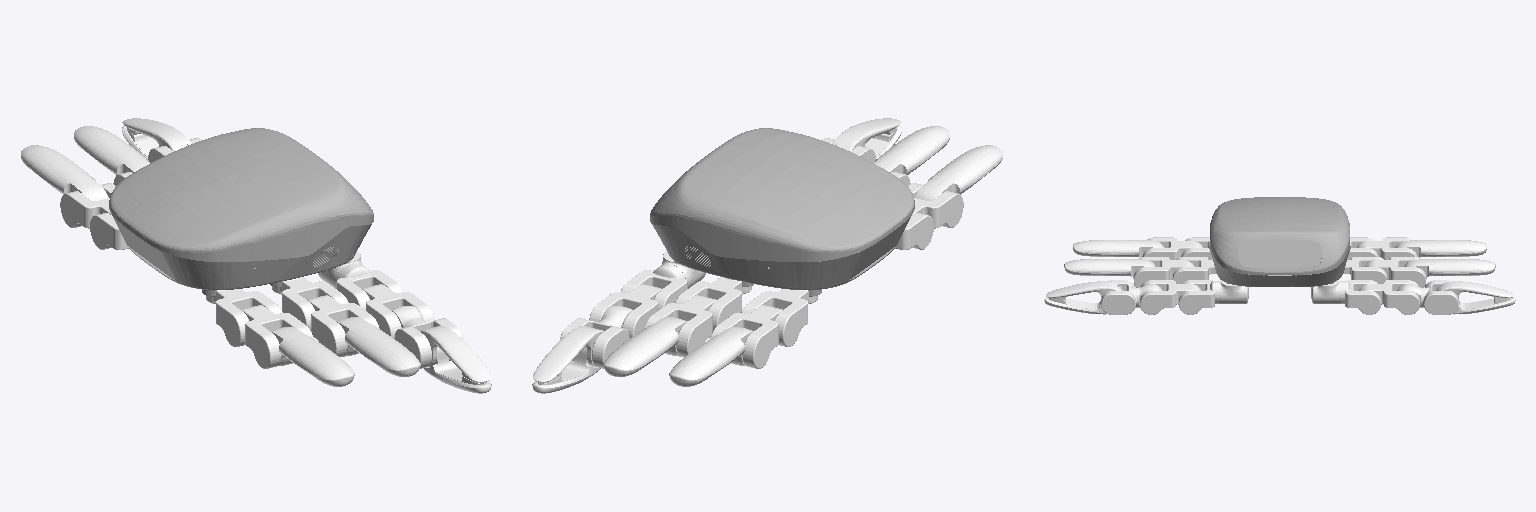
--- Facts derived from the render (not from the file) ---
The picture shows the robot from 3 angles, left to right: view 1: azimuth 30°, elevation 25°; view 2: azimuth 150°, elevation 25°; view 3: azimuth 270°, elevation 25°; orthographic projection.
Robot: robot — 23 links, 22 joints (22 revolute); root link base_link; default pose: every joint at zero.
Visible links, largest first — view 1: base_link, right_front_J3_link, right_back_J2_link, right_middle_J2_link, left_back_J2_link, right_back_J1_link, left_middle_J2_link, right_middle_J1_link, right_back_J0_link, right_front_J2_link, right_middle_J0_link, right_front_J1_link (+5 smaller); view 2: base_link, left_front_J3_link, left_middle_J2_link, left_back_J2_link, right_back_J2_link, left_back_J1_link, right_middle_J2_link, left_middle_J1_link, left_back_J0_link, left_front_J2_link, left_middle_J0_link, left_front_J1_link (+5 smaller); view 3: base_link, right_front_J3_link, left_front_J3_link, left_middle_J2_link, right_middle_J2_link, left_back_J2_link, right_back_J2_link, left_front_J2_link, right_front_J2_link, left_front_J1_link, right_front_J1_link, right_middle_J1_link (+9 smaller).
Link boxes in pixels (x1,y1,x2,y2): base_link: [109, 128, 373, 296]; right_front_J3_link: [391, 306, 490, 383]; right_back_J2_link: [270, 327, 354, 386]; right_middle_J2_link: [336, 317, 420, 376]; left_back_J2_link: [21, 145, 108, 200]; right_back_J1_link: [241, 305, 313, 368]; left_middle_J2_link: [74, 126, 149, 174]; right_middle_J1_link: [307, 295, 379, 356]; right_back_J0_link: [206, 289, 282, 346]; right_front_J2_link: [362, 284, 434, 337]; right_middle_J0_link: [272, 277, 348, 330]; right_front_J1_link: [336, 264, 402, 310]; base_link: [650, 128, 914, 296]; left_front_J3_link: [533, 306, 632, 383]; left_middle_J2_link: [603, 317, 687, 376]; left_back_J2_link: [669, 327, 753, 386]; right_back_J2_link: [915, 145, 1002, 200]; left_back_J1_link: [710, 305, 782, 368]; right_middle_J2_link: [874, 126, 949, 174]; left_middle_J1_link: [644, 295, 716, 356]; left_back_J0_link: [741, 289, 817, 346]; left_front_J2_link: [589, 284, 661, 337]; left_middle_J0_link: [675, 277, 751, 330]; left_front_J1_link: [621, 264, 687, 310]; base_link: [1209, 197, 1350, 286]; right_front_J3_link: [1046, 280, 1162, 314]; left_front_J3_link: [1397, 280, 1513, 314]; left_middle_J2_link: [1404, 259, 1495, 278]; right_middle_J2_link: [1064, 259, 1155, 278]; left_back_J2_link: [1395, 240, 1486, 257]; right_back_J2_link: [1073, 240, 1164, 257]; left_front_J2_link: [1359, 280, 1419, 314]; right_front_J2_link: [1140, 280, 1200, 314]; left_front_J1_link: [1341, 280, 1380, 314]; right_front_J1_link: [1179, 280, 1218, 314]; right_middle_J1_link: [1134, 257, 1194, 287].
Bounding box of the posed robot: 0.2057 × 0.6061 × 0.1161 m (x, y, z).
23 mesh visuals loaded from 23 distinct referenced files (23 binary STL).

URDF robot description (robot):
<?xml version="1.0" encoding="utf-8"?>
<!-- This URDF was automatically created by SolidWorks to URDF Exporter! Originally created by Stephen Brawner ([email redacted]) 
     Commit Version: 1.6.0-4-g7f85cfe  Build Version: 1.6.7995.38578
     For more information, please see http://wiki.ros.org/sw_urdf_exporter -->
<robot
  name="robot">
  <link
    name="base_link">
    <inertial>
      <origin
        xyz="0.00682568344531722 -4.76619026597145E-05 0.0172984181656626"
        rpy="0 0 0" />
      <mass
        value="0.389730863787271" />
      <inertia
        ixx="0.000205914056241163"
        ixy="-4.07569751900871E-08"
        ixz="4.76280901177032E-06"
        iyy="0.000351706392617631"
        iyz="-5.28394829553752E-09"
        izz="0.000509696724107986" />
    </inertial>
    <visual>
      <origin
        xyz="0 0 0"
        rpy="0 0 0" />
      <geometry>
        <mesh
          filename="package://robot/meshes/base_link.STL" />
      </geometry>
      <material
        name="">
        <color
          rgba="0.752941176470588 0.752941176470588 0.752941176470588 1" />
      </material>
    </visual>
    <collision>
      <origin
        xyz="0 0 0"
        rpy="0 0 0" />
      <geometry>
        <mesh
          filename="package://robot/meshes/base_link.STL" />
      </geometry>
    </collision>
  </link>
  <link
    name="left_front_J0_link">
    <inertial>
      <origin
        xyz="6.8128369640208E-08 -0.00149336101619772 -0.0151964685783306"
        rpy="0 0 0" />
      <mass
        value="0.0287169150136413" />
      <inertia
        ixx="4.24338203025952E-06"
        ixy="-8.77552412750308E-13"
        ixz="4.97146756928194E-11"
        iyy="3.58823672898843E-06"
        iyz="-2.52684133106505E-11"
        izz="4.09758727579147E-06" />
    </inertial>
    <visual>
      <origin
        xyz="0 0 0"
        rpy="0 0 0" />
      <geometry>
        <mesh
          filename="package://robot/meshes/left_front_J0_link.STL" />
      </geometry>
      <material
        name="">
        <color
          rgba="1 1 1 1" />
      </material>
    </visual>
    <collision>
      <origin
        xyz="0 0 0"
        rpy="0 0 0" />
      <geometry>
        <mesh
          filename="package://robot/meshes/left_front_J0_link.STL" />
      </geometry>
    </collision>
  </link>
  <joint
    name="left_front_J0"
    type="revolute">
    <origin
      xyz="0.064999 0.061141 0"
      rpy="0 0 0" />
    <parent
      link="base_link" />
    <child
      link="left_front_J0_link" />
    <axis
      xyz="0 0 1" />
    <limit
      lower="0"
      upper="0"
      effort="0"
      velocity="0" />
  </joint>
  <link
    name="left_front_J1_link">
    <inertial>
      <origin
        xyz="-4.01272283456766E-09 0.0239300112962954 -0.00386264062827269"
        rpy="0 0 0" />
      <mass
        value="0.0336203023629006" />
      <inertia
        ixx="9.27782739989519E-06"
        ixy="-2.4855166240055E-12"
        ixz="1.41172196889378E-11"
        iyy="9.12953535478703E-06"
        iyz="1.32705697776935E-06"
        izz="1.43916756250336E-05" />
    </inertial>
    <visual>
      <origin
        xyz="0 0 0"
        rpy="0 0 0" />
      <geometry>
        <mesh
          filename="package://robot/meshes/left_front_J1_link.STL" />
      </geometry>
      <material
        name="">
        <color
          rgba="1 1 1 1" />
      </material>
    </visual>
    <collision>
      <origin
        xyz="0 0 0"
        rpy="0 0 0" />
      <geometry>
        <mesh
          filename="package://robot/meshes/left_front_J1_link.STL" />
      </geometry>
    </collision>
  </link>
  <joint
    name="left_front_J1"
    type="revolute">
    <origin
      xyz="0 0.0168499999804508 -0.0163716952667256"
      rpy="0 0 0" />
    <parent
      link="left_front_J0_link" />
    <child
      link="left_front_J1_link" />
    <axis
      xyz="0 1 0" />
    <limit
      lower="0"
      upper="0"
      effort="0"
      velocity="0" />
  </joint>
  <link
    name="left_front_J2_link">
    <inertial>
      <origin
        xyz="-3.61725622233244E-08 0.025554890811241 0.00186994487865046"
        rpy="0 0 0" />
      <mass
        value="0.046534375517894" />
      <inertia
        ixx="2.49766967295052E-05"
        ixy="-7.26987022232083E-11"
        ixz="-3.80588013372108E-11"
        iyy="1.01604029346777E-05"
        iyz="-1.13414332011804E-08"
        izz="2.97992121199057E-05" />
    </inertial>
    <visual>
      <origin
        xyz="0 0 0"
        rpy="0 0 0" />
      <geometry>
        <mesh
          filename="package://robot/meshes/left_front_J2_link.STL" />
      </geometry>
      <material
        name="">
        <color
          rgba="1 1 1 1" />
      </material>
    </visual>
    <collision>
      <origin
        xyz="0 0 0"
        rpy="0 0 0" />
      <geometry>
        <mesh
          filename="package://robot/meshes/left_front_J2_link.STL" />
      </geometry>
    </collision>
  </link>
  <joint
    name="left_front_J2"
    type="revolute">
    <origin
      xyz="0 0.037236 -0.0070643"
      rpy="0 0 0" />
    <parent
      link="left_front_J1_link" />
    <child
      link="left_front_J2_link" />
    <axis
      xyz="1 0 0" />
    <limit
      lower="0"
      upper="0"
      effort="0"
      velocity="0" />
  </joint>
  <link
    name="left_front_J3_link">
    <inertial>
      <origin
        xyz="6.15726642866354E-08 0.028356299377758 0.000110726458451976"
        rpy="0 0 0" />
      <mass
        value="0.0531446035117344" />
      <inertia
        ixx="2.66594411909133E-05"
        ixy="2.68867920903369E-11"
        ixz="-2.62205177518291E-11"
        iyy="1.14210874046915E-05"
        iyz="2.03728486542381E-08"
        izz="3.16346162209622E-05" />
    </inertial>
    <visual>
      <origin
        xyz="0 0 0"
        rpy="0 0 0" />
      <geometry>
        <mesh
          filename="package://robot/meshes/left_front_J3_link.STL" />
      </geometry>
      <material
        name="">
        <color
          rgba="1 1 1 1" />
      </material>
    </visual>
    <collision>
      <origin
        xyz="0 0 0"
        rpy="0 0 0" />
      <geometry>
        <mesh
          filename="package://robot/meshes/left_front_J3_link.STL" />
      </geometry>
    </collision>
  </link>
  <joint
    name="left_front_J3"
    type="revolute">
    <origin
      xyz="0 0.0500011330266 0"
      rpy="0 0 0" />
    <parent
      link="left_front_J2_link" />
    <child
      link="left_front_J3_link" />
    <axis
      xyz="1 0 0" />
    <limit
      lower="0"
      upper="0"
      effort="0"
      velocity="0" />
  </joint>
  <link
    name="left_front_J4_link">
    <inertial>
      <origin
        xyz="7.36143868551586E-06 0.0654362884758235 -0.0036500334336402"
        rpy="0 0 0" />
      <mass
        value="0.00164715375611125" />
      <inertia
        ixx="1.19326676189179E-07"
        ixy="-3.79896850283086E-12"
        ixz="-3.2792994571282E-11"
        iyy="3.83605379462162E-08"
        iyz="-2.0512888258599E-08"
        izz="1.43757951074741E-07" />
    </inertial>
    <visual>
      <origin
        xyz="0 0 0"
        rpy="0 0 0" />
      <geometry>
        <mesh
          filename="package://robot/meshes/left_front_J4_link.STL" />
      </geometry>
      <material
        name="">
        <color
          rgba="1 1 1 1" />
      </material>
    </visual>
    <collision>
      <origin
        xyz="0 0 0"
        rpy="0 0 0" />
      <geometry>
        <mesh
          filename="package://robot/meshes/left_front_J4_link.STL" />
      </geometry>
    </collision>
  </link>
  <joint
    name="left_front_J4"
    type="revolute">
    <origin
      xyz="0 0.0499999999998 0"
      rpy="0 0 0" />
    <parent
      link="left_front_J3_link" />
    <child
      link="left_front_J4_link" />
    <axis
      xyz="1 0 0" />
    <limit
      lower="0"
      upper="0"
      effort="0"
      velocity="0" />
  </joint>
  <link
    name="right_front_J0_link">
    <inertial>
      <origin
        xyz="-6.80448072748474E-08 0.00149335507437627 -0.0151964725432041"
        rpy="0 0 0" />
      <mass
        value="0.0287169045098633" />
      <inertia
        ixx="4.2433803569375E-06"
        ixy="-8.76662764832091E-13"
        ixz="-4.97452392356078E-11"
        iyy="3.5882350759547E-06"
        iyz="2.51576016738605E-11"
        izz="4.09758730728406E-06" />
    </inertial>
    <visual>
      <origin
        xyz="0 0 0"
        rpy="0 0 0" />
      <geometry>
        <mesh
          filename="package://robot/meshes/right_front_J0_link.STL" />
      </geometry>
      <material
        name="">
        <color
          rgba="1 1 1 1" />
      </material>
    </visual>
    <collision>
      <origin
        xyz="0 0 0"
        rpy="0 0 0" />
      <geometry>
        <mesh
          filename="package://robot/meshes/right_front_J0_link.STL" />
      </geometry>
    </collision>
  </link>
  <joint
    name="right_front_J0"
    type="revolute">
    <origin
      xyz="0.064999 -0.061141 0"
      rpy="0 0 0" />
    <parent
      link="base_link" />
    <child
      link="right_front_J0_link" />
    <axis
      xyz="0 0 1" />
    <limit
      lower="0"
      upper="0"
      effort="0"
      velocity="0" />
  </joint>
  <link
    name="right_front_J1_link">
    <inertial>
      <origin
        xyz="4.0127227929343E-09 -0.0239300112962954 -0.0038626406282727"
        rpy="0 0 0" />
      <mass
        value="0.0336203023629005" />
      <inertia
        ixx="9.27782739989518E-06"
        ixy="-2.48551662371447E-12"
        ixz="-1.4117219686432E-11"
        iyy="9.12953535478701E-06"
        iyz="-1.32705697776935E-06"
        izz="1.43916756250336E-05" />
    </inertial>
    <visual>
      <origin
        xyz="0 0 0"
        rpy="0 0 0" />
      <geometry>
        <mesh
          filename="package://robot/meshes/right_front_J1_link.STL" />
      </geometry>
      <material
        name="">
        <color
          rgba="1 1 1 1" />
      </material>
    </visual>
    <collision>
      <origin
        xyz="0 0 0"
        rpy="0 0 0" />
      <geometry>
        <mesh
          filename="package://robot/meshes/right_front_J1_link.STL" />
      </geometry>
    </collision>
  </link>
  <joint
    name="right_front_J1"
    type="revolute">
    <origin
      xyz="0 -0.0168499999804508 -0.0163716952667256"
      rpy="0 0 0" />
    <parent
      link="right_front_J0_link" />
    <child
      link="right_front_J1_link" />
    <axis
      xyz="0 -1 0" />
    <limit
      lower="0"
      upper="0"
      effort="0"
      velocity="0" />
  </joint>
  <link
    name="right_front_J2_link">
    <inertial>
      <origin
        xyz="3.617256225108E-08 -0.025554890811241 0.00186994487865047"
        rpy="0 0 0" />
      <mass
        value="0.046534375517894" />
      <inertia
        ixx="2.49766967295052E-05"
        ixy="-7.26987022266123E-11"
        ixz="3.80588013337539E-11"
        iyy="1.01604029346777E-05"
        iyz="1.13414332011875E-08"
        izz="2.97992121199057E-05" />
    </inertial>
    <visual>
      <origin
        xyz="0 0 0"
        rpy="0 0 0" />
      <geometry>
        <mesh
          filename="package://robot/meshes/right_front_J2_link.STL" />
      </geometry>
      <material
        name="">
        <color
          rgba="1 1 1 1" />
      </material>
    </visual>
    <collision>
      <origin
        xyz="0 0 0"
        rpy="0 0 0" />
      <geometry>
        <mesh
          filename="package://robot/meshes/right_front_J2_link.STL" />
      </geometry>
    </collision>
  </link>
  <joint
    name="right_front_J2"
    type="revolute">
    <origin
      xyz="0 -0.037236473354862 -0.00706428754554405"
      rpy="0 0 0" />
    <parent
      link="right_front_J1_link" />
    <child
      link="right_front_J2_link" />
    <axis
      xyz="-1 0 0" />
    <limit
      lower="0"
      upper="0"
      effort="0"
      velocity="0" />
  </joint>
  <link
    name="right_front_J3_link">
    <inertial>
      <origin
        xyz="-6.18359734111396E-08 -0.0283563018473 0.000110726795753675"
        rpy="0 0 0" />
      <mass
        value="0.0531446055716235" />
      <inertia
        ixx="2.66594408969323E-05"
        ixy="2.70131824360345E-11"
        ixz="2.62413105565519E-11"
        iyy="1.14210875057646E-05"
        iyz="-2.03727812044658E-08"
        izz="3.16346160601765E-05" />
    </inertial>
    <visual>
      <origin
        xyz="0 0 0"
        rpy="0 0 0" />
      <geometry>
        <mesh
          filename="package://robot/meshes/right_front_J3_link.STL" />
      </geometry>
      <material
        name="">
        <color
          rgba="1 1 1 1" />
      </material>
    </visual>
    <collision>
      <origin
        xyz="0 0 0"
        rpy="0 0 0" />
      <geometry>
        <mesh
          filename="package://robot/meshes/right_front_J3_link.STL" />
      </geometry>
    </collision>
  </link>
  <joint
    name="right_front_J3"
    type="revolute">
    <origin
      xyz="0 -0.0500011330266 0"
      rpy="0 0 0" />
    <parent
      link="right_front_J2_link" />
    <child
      link="right_front_J3_link" />
    <axis
      xyz="-1 0 0" />
    <limit
      lower="0"
      upper="0"
      effort="0"
      velocity="0" />
  </joint>
  <link
    name="right_front_J4_link">
    <inertial>
      <origin
        xyz="-7.36338185766683E-06 -0.0654362848431242 -0.00365003413167088"
        rpy="0 0 0" />
      <mass
        value="0.00164715375292051" />
      <inertia
        ixx="1.19326335006342E-07"
        ixy="-3.85923709785755E-12"
        ixz="3.28071680724088E-11"
        iyy="3.83605413828875E-08"
        iyz="2.05128192799983E-08"
        izz="1.43757642309004E-07" />
    </inertial>
    <visual>
      <origin
        xyz="0 0 0"
        rpy="0 0 0" />
      <geometry>
        <mesh
          filename="package://robot/meshes/right_front_J4_link.STL" />
      </geometry>
      <material
        name="">
        <color
          rgba="1 1 1 1" />
      </material>
    </visual>
    <collision>
      <origin
        xyz="0 0 0"
        rpy="0 0 0" />
      <geometry>
        <mesh
          filename="package://robot/meshes/right_front_J4_link.STL" />
      </geometry>
    </collision>
  </link>
  <joint
    name="right_front_J4"
    type="revolute">
    <origin
      xyz="0 -0.0499999999998 0"
      rpy="0 0 0" />
    <parent
      link="right_front_J3_link" />
    <child
      link="right_front_J4_link" />
    <axis
      xyz="1 0 0" />
    <limit
      lower="0"
      upper="0"
      effort="0"
      velocity="0" />
  </joint>
  <link
    name="left_middle_J0_link">
    <inertial>
      <origin
        xyz="2.29341943379022E-08 0.0349911645815416 -0.0128410089941218"
        rpy="0 0 0" />
      <mass
        value="0.0402701463857846" />
      <inertia
        ixx="2.00989080607961E-05"
        ixy="-6.84477951248553E-12"
        ixz="-5.11555562775522E-12"
        iyy="9.40611800331414E-06"
        iyz="3.01792413973876E-06"
        izz="2.53171091529106E-05" />
    </inertial>
    <visual>
      <origin
        xyz="0 0 0"
        rpy="0 0 0" />
      <geometry>
        <mesh
          filename="package://robot/meshes/left_middle_J0_link.STL" />
      </geometry>
      <material
        name="">
        <color
          rgba="1 1 1 1" />
      </material>
    </visual>
    <collision>
      <origin
        xyz="0 0 0"
        rpy="0 0 0" />
      <geometry>
        <mesh
          filename="package://robot/meshes/left_middle_J0_link.STL" />
      </geometry>
    </collision>
  </link>
  <joint
    name="left_middle_J0"
    type="revolute">
    <origin
      xyz="0.007 0.066643 0"
      rpy="0 0 0" />
    <parent
      link="base_link" />
    <child
      link="left_middle_J0_link" />
    <axis
      xyz="0 0 1" />
    <limit
      lower="0"
      upper="0"
      effort="0"
      velocity="0" />
  </joint>
  <link
    name="left_middle_J1_link">
    <inertial>
      <origin
        xyz="-3.76878709976158E-08 0.0255549995363471 0.00186995781930966"
        rpy="0 0 0" />
      <mass
        value="0.046534344846247" />
      <inertia
        ixx="2.49767601740589E-05"
        ixy="-5.85227207968835E-11"
        ixz="-2.36725171820187E-11"
        iyy="1.01605076612743E-05"
        iyz="-1.14843369473101E-08"
        izz="2.97991978494181E-05" />
    </inertial>
    <visual>
      <origin
        xyz="0 0 0"
        rpy="0 0 0" />
      <geometry>
        <mesh
          filename="package://robot/meshes/left_middle_J1_link.STL" />
      </geometry>
      <material
        name="">
        <color
          rgba="1 1 1 1" />
      </material>
    </visual>
    <collision>
      <origin
        xyz="0 0 0"
        rpy="0 0 0" />
      <geometry>
        <mesh
          filename="package://robot/meshes/left_middle_J1_link.STL" />
      </geometry>
    </collision>
  </link>
  <joint
    name="left_middle_J1"
    type="revolute">
    <origin
      xyz="0 0.05668392784473 -0.017015553567627"
      rpy="0 0 0" />
    <parent
      link="left_middle_J0_link" />
    <child
      link="left_middle_J1_link" />
    <axis
      xyz="1 0 0" />
    <limit
      lower="0"
      upper="0"
      effort="0"
      velocity="0" />
  </joint>
  <link
    name="left_middle_J2_link">
    <inertial>
      <origin
        xyz="-8.32694591473837E-08 0.0396012897557484 0.00681690591469321"
        rpy="0 0 0" />
      <mass
        value="0.0565913278842312" />
      <inertia
        ixx="6.24061098516865E-05"
        ixy="-1.59466976719639E-10"
        ixz="2.86320824082912E-11"
        iyy="6.01804106702932E-06"
        iyz="-5.68624958271557E-06"
        izz="6.27707411784157E-05" />
    </inertial>
    <visual>
      <origin
        xyz="0 0 0"
        rpy="0 0 0" />
      <geometry>
        <mesh
          filename="package://robot/meshes/left_middle_J2_link.STL" />
      </geometry>
      <material
        name="">
        <color
          rgba="1 1 1 1" />
      </material>
    </visual>
    <collision>
      <origin
        xyz="0 0 0"
        rpy="0 0 0" />
      <geometry>
        <mesh
          filename="package://robot/meshes/left_middle_J2_link.STL" />
      </geometry>
    </collision>
  </link>
  <joint
    name="left_middle_J2"
    type="revolute">
    <origin
      xyz="0 0.0500011330264 0"
      rpy="0 0 0" />
    <parent
      link="left_middle_J1_link" />
    <child
      link="left_middle_J2_link" />
    <axis
      xyz="1 0 0" />
    <limit
      lower="0"
      upper="0"
      effort="0"
      velocity="0" />
  </joint>
  <link
    name="right_middle_J0_link">
    <inertial>
      <origin
        xyz="-2.26422789519412E-08 -0.0349911611807601 -0.0128410074643599"
        rpy="0 0 0" />
      <mass
        value="0.0402701474186556" />
      <inertia
        ixx="2.00989070506742E-05"
        ixy="-6.6203844590472E-12"
        ixz="5.70963183305136E-12"
        iyy="9.40611642334649E-06"
        iyz="-3.01792404859914E-06"
        izz="2.53171095168634E-05" />
    </inertial>
    <visual>
      <origin
        xyz="0 0 0"
        rpy="0 0 0" />
      <geometry>
        <mesh
          filename="package://robot/meshes/right_middle_J0_link.STL" />
      </geometry>
      <material
        name="">
        <color
          rgba="1 1 1 1" />
      </material>
    </visual>
    <collision>
      <origin
        xyz="0 0 0"
        rpy="0 0 0" />
      <geometry>
        <mesh
          filename="package://robot/meshes/right_middle_J0_link.STL" />
      </geometry>
    </collision>
  </link>
  <joint
    name="right_middle_J0"
    type="revolute">
    <origin
      xyz="0.007 -0.066643 0"
      rpy="0 0 0" />
    <parent
      link="base_link" />
    <child
      link="right_middle_J0_link" />
    <axis
      xyz="0 0 1" />
    <limit
      lower="0"
      upper="0"
      effort="0"
      velocity="0" />
  </joint>
  <link
    name="right_middle_J1_link">
    <inertial>
      <origin
        xyz="3.73541165906918E-08 -0.0255549990757357 0.00186995832898622"
        rpy="0 0 0" />
      <mass
        value="0.0465343438835734" />
      <inertia
        ixx="2.49767594446562E-05"
        ixy="-5.8894087482039E-11"
        ixz="2.32700748480311E-11"
        iyy="1.01605068073446E-05"
        iyz="1.14848863784845E-08"
        izz="2.97991974393058E-05" />
    </inertial>
    <visual>
      <origin
        xyz="0 0 0"
        rpy="0 0 0" />
      <geometry>
        <mesh
          filename="package://robot/meshes/right_middle_J1_link.STL" />
      </geometry>
      <material
        name="">
        <color
          rgba="1 1 1 1" />
      </material>
    </visual>
    <collision>
      <origin
        xyz="0 0 0"
        rpy="0 0 0" />
      <geometry>
        <mesh
          filename="package://robot/meshes/right_middle_J1_link.STL" />
      </geometry>
    </collision>
  </link>
  <joint
    name="right_middle_J1"
    type="revolute">
    <origin
      xyz="0 -0.05668392784473 -0.017015553567627"
      rpy="0 0 0" />
    <parent
      link="right_middle_J0_link" />
    <child
      link="right_middle_J1_link" />
    <axis
      xyz="-1 0 0" />
    <limit
      lower="0"
      upper="0"
      effort="0"
      velocity="0" />
  </joint>
  <link
    name="right_middle_J2_link">
    <inertial>
      <origin
        xyz="8.3468518594261E-08 -0.0396012906841624 0.00681690601607171"
        rpy="0 0 0" />
      <mass
        value="0.0565913292137902" />
      <inertia
        ixx="6.24061120693188E-05"
        ixy="-1.5899424149643E-10"
        ixz="-2.86875188550536E-11"
        iyy="6.01804120242819E-06"
        iyz="5.68624983988449E-06"
        izz="6.27707434653153E-05" />
    </inertial>
    <visual>
      <origin
        xyz="0 0 0"
        rpy="0 0 0" />
      <geometry>
        <mesh
          filename="package://robot/meshes/right_middle_J2_link.STL" />
      </geometry>
      <material
        name="">
        <color
          rgba="1 1 1 1" />
      </material>
    </visual>
    <collision>
      <origin
        xyz="0 0 0"
        rpy="0 0 0" />
      <geometry>
        <mesh
          filename="package://robot/meshes/right_middle_J2_link.STL" />
      </geometry>
    </collision>
  </link>
  <joint
    name="right_middle_J2"
    type="revolute">
    <origin
      xyz="0 -0.0500011330264 0"
      rpy="0 0 0" />
    <parent
      link="right_middle_J1_link" />
    <child
      link="right_middle_J2_link" />
    <axis
      xyz="-1 0 0" />
    <limit
      lower="0"
      upper="0"
      effort="0"
      velocity="0" />
  </joint>
  <link
    name="left_back_J0_link">
    <inertial>
      <origin
        xyz="2.31619611129608E-08 0.0349911596765726 -0.0128410080308472"
        rpy="0 0 0" />
      <mass
        value="0.040270149469002" />
      <inertia
        ixx="2.00989072353984E-05"
        ixy="-7.40047050982709E-12"
        ixz="-4.52472868135849E-12"
        iyy="9.40611688048612E-06"
        iyz="3.01792371344953E-06"
        izz="2.53171091253715E-05" />
    </inertial>
    <visual>
      <origin
        xyz="0 0 0"
        rpy="0 0 0" />
      <geometry>
        <mesh
          filename="package://robot/meshes/left_back_J0_link.STL" />
      </geometry>
      <material
        name="">
        <color
          rgba="1 1 1 1" />
      </material>
    </visual>
    <collision>
      <origin
        xyz="0 0 0"
        rpy="0 0 0" />
      <geometry>
        <mesh
          filename="package://robot/meshes/left_back_J0_link.STL" />
      </geometry>
    </collision>
  </link>
  <joint
    name="left_back_J0"
    type="revolute">
    <origin
      xyz="-0.051002 0.055637 0"
      rpy="0 0 0" />
    <parent
      link="base_link" />
    <child
      link="left_back_J0_link" />
    <axis
      xyz="0 0 1" />
    <limit
      lower="0"
      upper="0"
      effort="0"
      velocity="0" />
  </joint>
  <link
    name="left_back_J1_link">
    <inertial>
      <origin
        xyz="-3.76878710045547E-08 0.0255549995363471 0.00186995781930965"
        rpy="0 0 0" />
      <mass
        value="0.0465343448462471" />
      <inertia
        ixx="2.49767601740589E-05"
        ixy="-5.85227207924559E-11"
        ixz="-2.36725171831736E-11"
        iyy="1.01605076612743E-05"
        iyz="-1.14843369473199E-08"
        izz="2.97991978494182E-05" />
    </inertial>
    <visual>
      <origin
        xyz="0 0 0"
        rpy="0 0 0" />
      <geometry>
        <mesh
          filename="package://robot/meshes/left_back_J1_link.STL" />
      </geometry>
      <material
        name="">
        <color
          rgba="1 1 1 1" />
      </material>
    </visual>
    <collision>
      <origin
        xyz="0 0 0"
        rpy="0 0 0" />
      <geometry>
        <mesh
          filename="package://robot/meshes/left_back_J1_link.STL" />
      </geometry>
    </collision>
  </link>
  <joint
    name="left_back_J1"
    type="revolute">
    <origin
      xyz="0 0.05668392784473 -0.017015553567627"
      rpy="0 0 0" />
    <parent
      link="left_back_J0_link" />
    <child
      link="left_back_J1_link" />
    <axis
      xyz="1 0 0" />
    <limit
      lower="0"
      upper="0"
      effort="0"
      velocity="0" />
  </joint>
  <link
    name="left_back_J2_link">
    <inertial>
      <origin
        xyz="-8.32428728378409E-08 0.0396012904172242 0.00681690230638098"
        rpy="0 0 0" />
      <mass
        value="0.0565913387394508" />
      <inertia
        ixx="6.24061140475584E-05"
        ixy="-1.59526054091353E-10"
        ixz="2.86231384327877E-11"
        iyy="6.01804231255935E-06"
        iyz="-5.68625135266245E-06"
        izz="6.27707448626611E-05" />
    </inertial>
    <visual>
      <origin
        xyz="0 0 0"
        rpy="0 0 0" />
      <geometry>
        <mesh
          filename="package://robot/meshes/left_back_J2_link.STL" />
      </geometry>
      <material
        name="">
        <color
          rgba="1 1 1 1" />
      </material>
    </visual>
    <collision>
      <origin
        xyz="0 0 0"
        rpy="0 0 0" />
      <geometry>
        <mesh
          filename="package://robot/meshes/left_back_J2_link.STL" />
      </geometry>
    </collision>
  </link>
  <joint
    name="left_back_J2"
    type="revolute">
    <origin
      xyz="0 0.0500011330264 0"
      rpy="0 0 0" />
    <parent
      link="left_back_J1_link" />
    <child
      link="left_back_J2_link" />
    <axis
      xyz="1 0 0" />
    <limit
      lower="0"
      upper="0"
      effort="0"
      velocity="0" />
  </joint>
  <link
    name="right_back_J0_link">
    <inertial>
      <origin
        xyz="-2.26648407056218E-08 -0.0349911597977342 -0.0128410072158464"
        rpy="0 0 0" />
      <mass
        value="0.0402701486720539" />
      <inertia
        ixx="2.00989071981435E-05"
        ixy="-6.63758731303435E-12"
        ixz="5.71011711673765E-12"
        iyy="9.4061164359781E-06"
        iyz="-3.01792419854217E-06"
        izz="2.53171096531858E-05" />
    </inertial>
    <visual>
      <origin
        xyz="0 0 0"
        rpy="0 0 0" />
      <geometry>
        <mesh
          filename="package://robot/meshes/right_back_J0_link.STL" />
      </geometry>
      <material
        name="">
        <color
          rgba="1 1 1 1" />
      </material>
    </visual>
    <collision>
      <origin
        xyz="0 0 0"
        rpy="0 0 0" />
      <geometry>
        <mesh
          filename="package://robot/meshes/right_back_J0_link.STL" />
      </geometry>
    </collision>
  </link>
  <joint
    name="right_back_J0"
    type="revolute">
    <origin
      xyz="-0.051001919050867 -0.055636885222511 0"
      rpy="0 0 0" />
    <parent
      link="base_link" />
    <child
      link="right_back_J0_link" />
    <axis
      xyz="0 0 1" />
    <limit
      lower="0"
      upper="0"
      effort="0"
      velocity="0" />
  </joint>
  <link
    name="right_back_J1_link">
    <inertial>
      <origin
        xyz="3.73541166193148E-08 -0.0255549990757357 0.0018699583289862"
        rpy="0 0 0" />
      <mass
        value="0.0465343438835735" />
      <inertia
        ixx="2.49767594446562E-05"
        ixy="-5.88940874629713E-11"
        ixz="2.32700748574478E-11"
        iyy="1.01605068073446E-05"
        iyz="1.14848863785138E-08"
        izz="2.97991974393058E-05" />
    </inertial>
    <visual>
      <origin
        xyz="0 0 0"
        rpy="0 0 0" />
      <geometry>
        <mesh
          filename="package://robot/meshes/right_back_J1_link.STL" />
      </geometry>
      <material
        name="">
        <color
          rgba="1 1 1 1" />
      </material>
    </visual>
    <collision>
      <origin
        xyz="0 0 0"
        rpy="0 0 0" />
      <geometry>
        <mesh
          filename="package://robot/meshes/right_back_J1_link.STL" />
      </geometry>
    </collision>
  </link>
  <joint
    name="right_back_J1"
    type="revolute">
    <origin
      xyz="0 -0.05668392784473 -0.017015553567627"
      rpy="0 0 0" />
    <parent
      link="right_back_J0_link" />
    <child
      link="right_back_J1_link" />
    <axis
      xyz="-1 0 0" />
    <limit
      lower="0"
      upper="0"
      effort="0"
      velocity="0" />
  </joint>
  <link
    name="right_back_J2_link">
    <inertial>
      <origin
        xyz="8.30438122365051E-08 -0.0396012905513566 0.00681690599846941"
        rpy="0 0 0" />
      <mass
        value="0.0565913290139366" />
      <inertia
        ixx="6.24061117653225E-05"
        ixy="-1.59998788675836E-10"
        ixz="-2.85677038367161E-11"
        iyy="6.01804118475333E-06"
        iyz="5.68624979786435E-06"
        izz="6.27707431563936E-05" />
    </inertial>
    <visual>
      <origin
        xyz="0 0 0"
        rpy="0 0 0" />
      <geometry>
        <mesh
          filename="package://robot/meshes/right_back_J2_link.STL" />
      </geometry>
      <material
        name="">
        <color
          rgba="1 1 1 1" />
      </material>
    </visual>
    <collision>
      <origin
        xyz="0 0 0"
        rpy="0 0 0" />
      <geometry>
        <mesh
          filename="package://robot/meshes/right_back_J2_link.STL" />
      </geometry>
    </collision>
  </link>
  <joint
    name="right_back_J2"
    type="revolute">
    <origin
      xyz="0 -0.0500011330264 0"
      rpy="0 0 0" />
    <parent
      link="right_back_J1_link" />
    <child
      link="right_back_J2_link" />
    <axis
      xyz="-1 0 0" />
    <limit
      lower="0"
      upper="0"
      effort="0"
      velocity="0" />
  </joint>
</robot>
